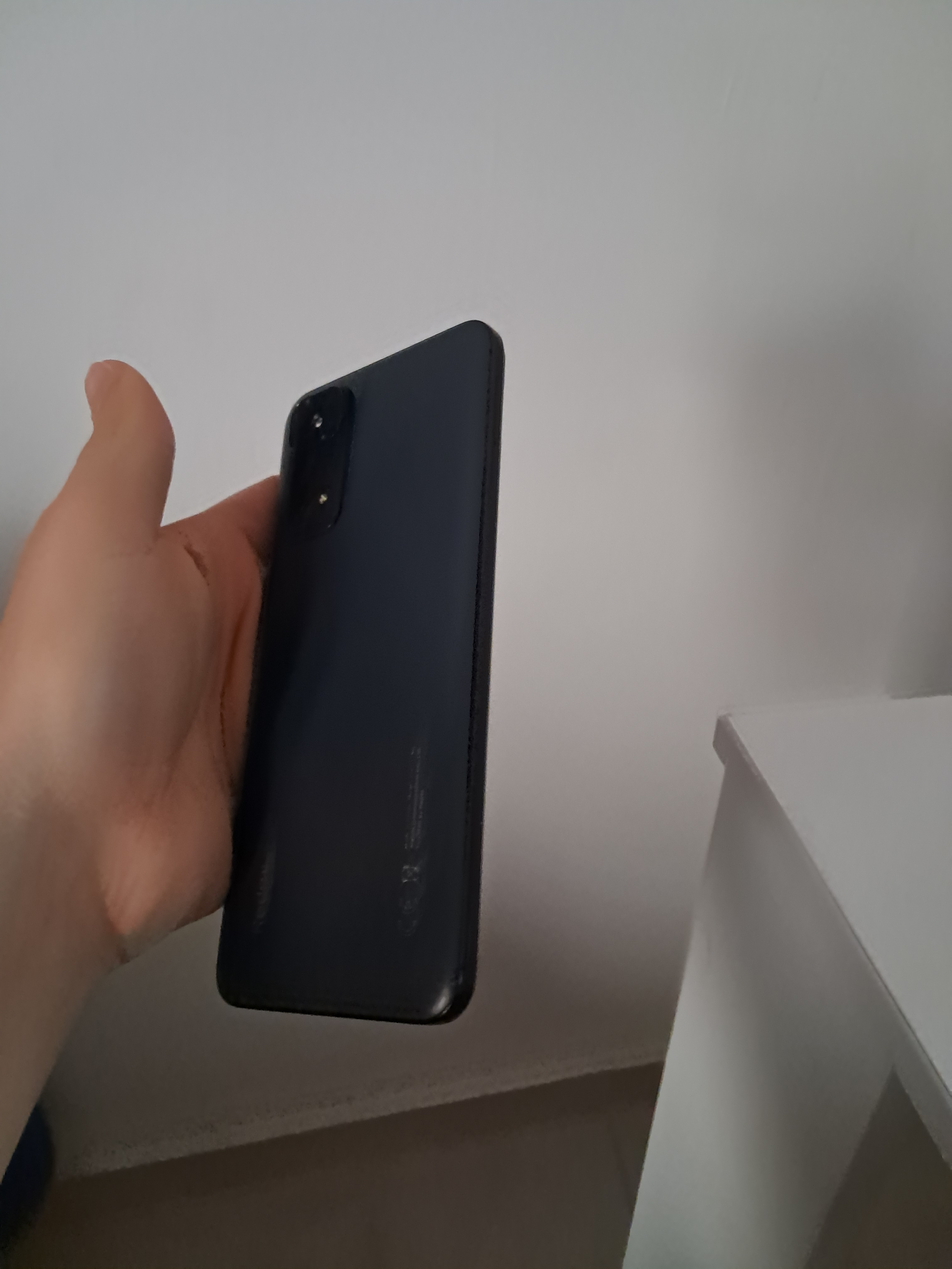phone: (217, 320, 504, 1024)
